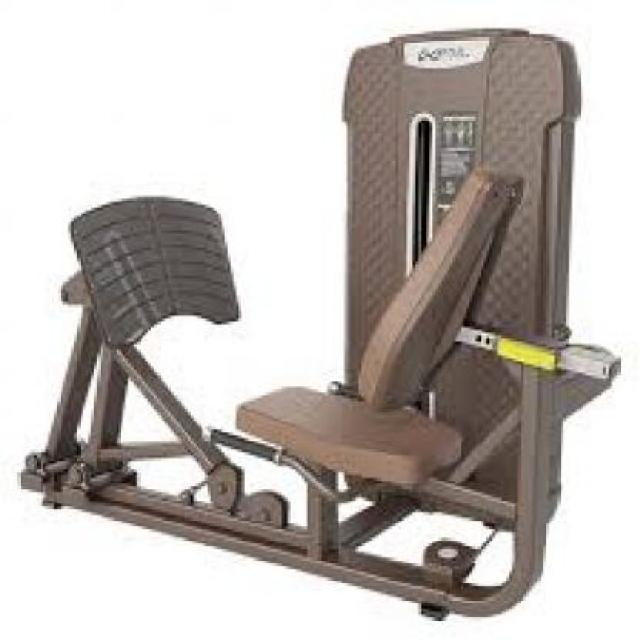leg press: (15, 20, 623, 631)
